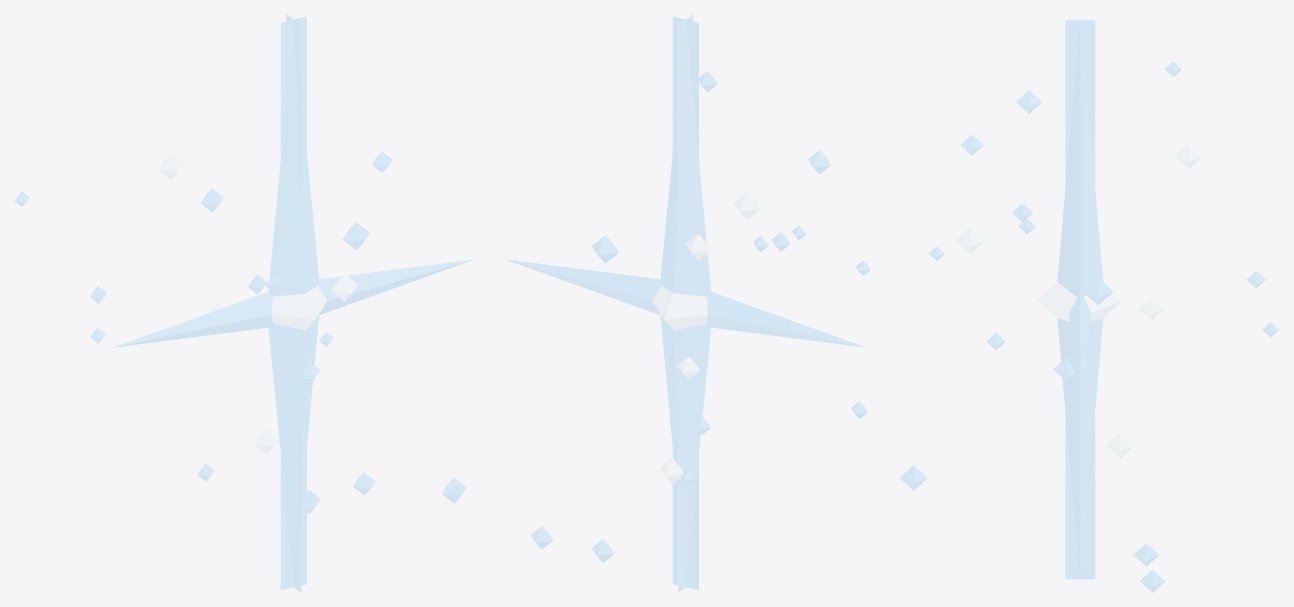
File: Star_01_C5.glb
The picture shows the model from 3 angles, left to right: view 1: azimuth 30°, elevation 25°; view 2: azimuth 150°, elevation 25°; view 3: azimuth 270°, elevation 25°; orthographic projection.
Parts seen in each view (by area): view 1: Star_01_C5; view 2: Star_01_C5; view 3: Star_01_C5.
Boxes of the visible parts, x1,y1,x2,y2 form: Star_01_C5: (14, 14, 474, 592); Star_01_C5: (505, 14, 870, 592); Star_01_C5: (899, 20, 1279, 592).
Size of the model in its own units: 0.0272 by 0.0356 by 0.0219.
